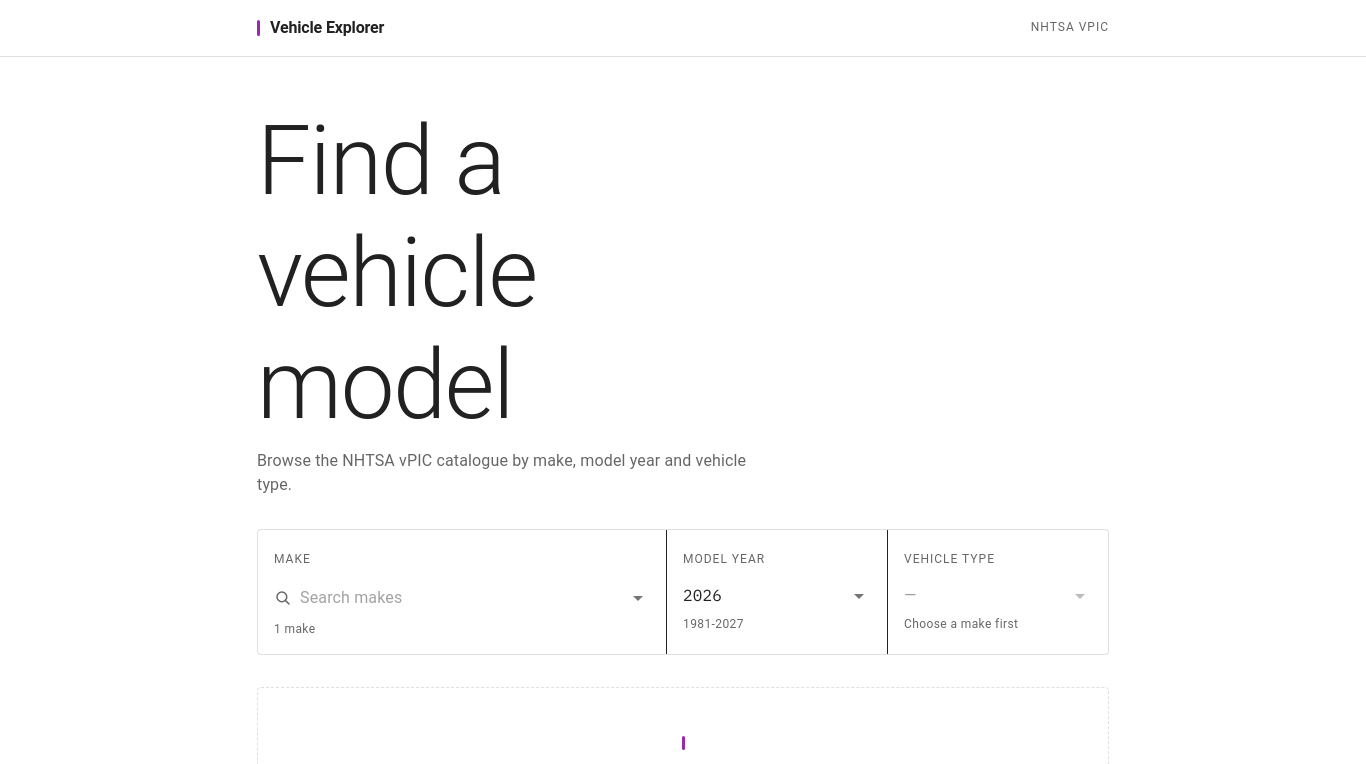
Test: App › loads vehicle types and models for the chosen make
Type "hon" into the dropdown labelled "Make" at (460, 598), box [300, 582, 620, 613]
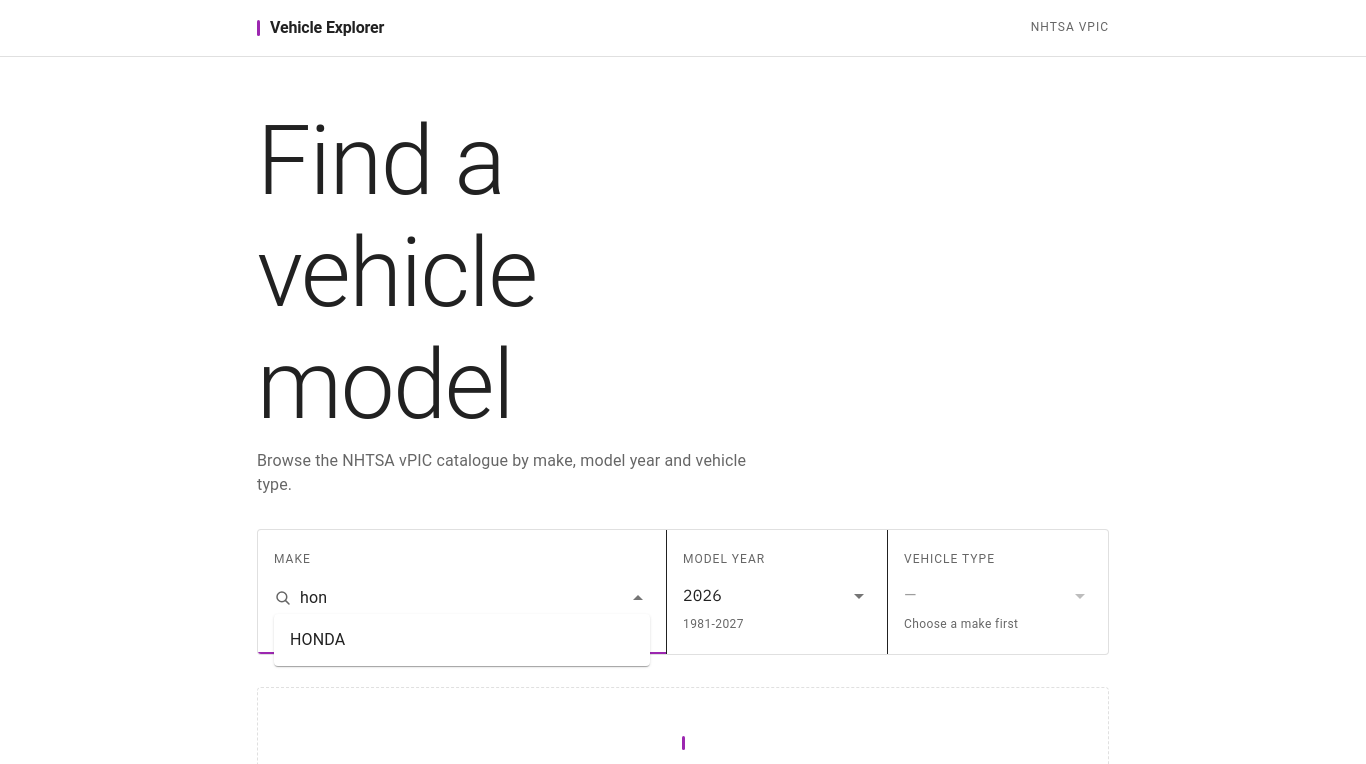
Click the option "HONDA" at (318, 640), box [290, 630, 345, 649]
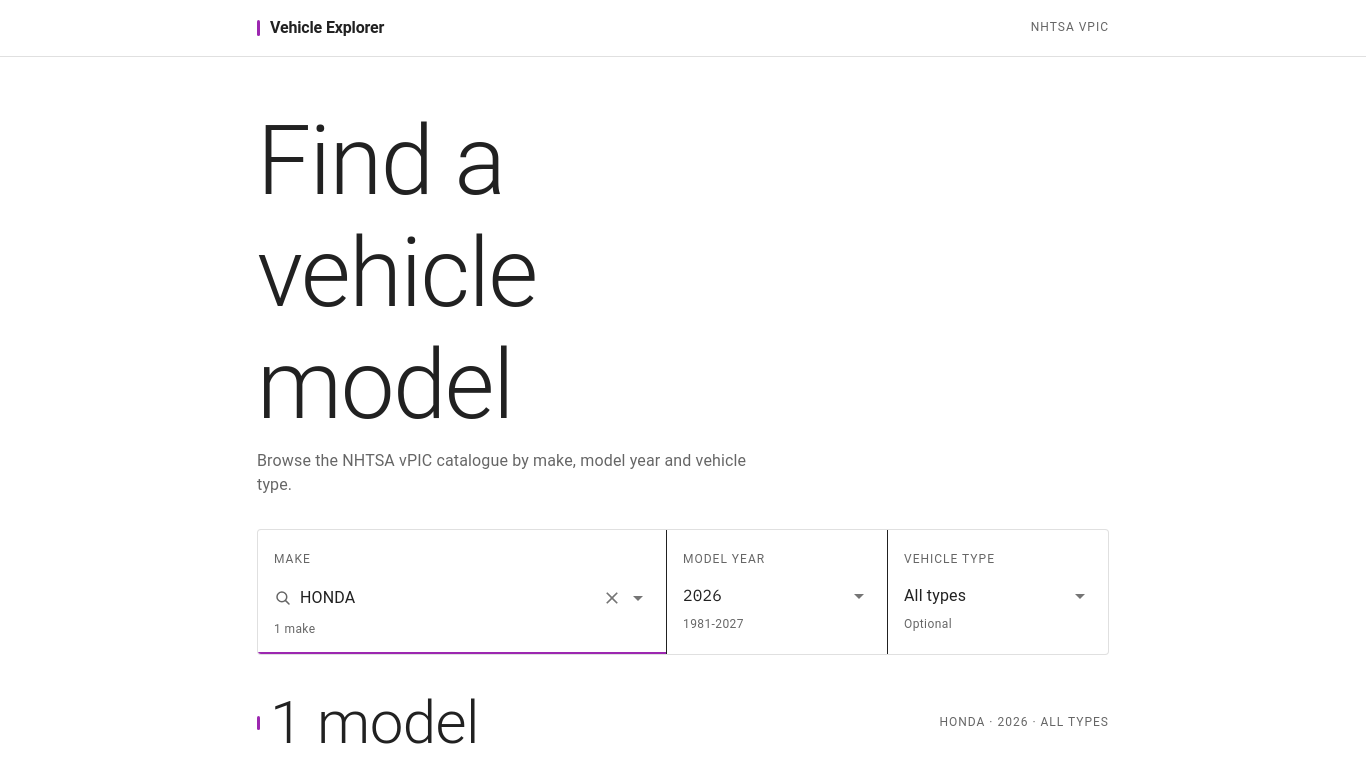
Expected: the heading "1 model" is shown, [270, 687, 479, 759]
